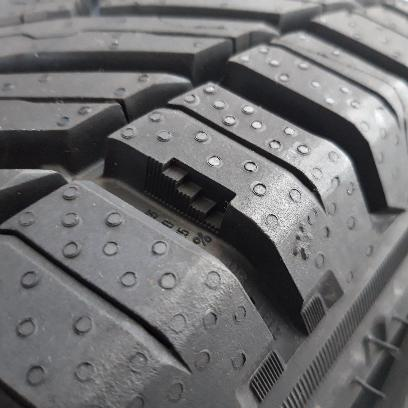temoin:100: (142, 155, 238, 239)
